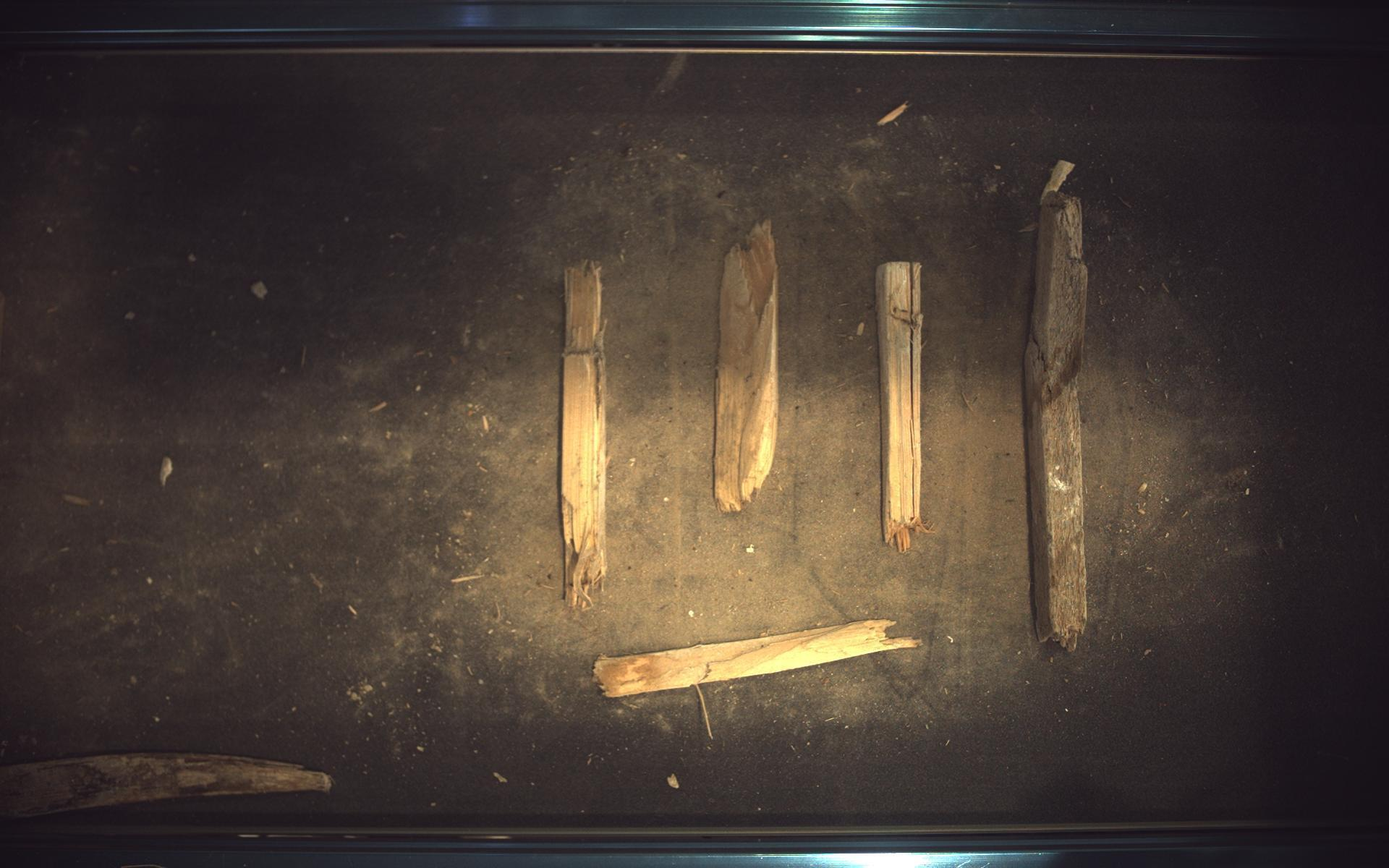wood: (1027, 159, 1090, 652), (595, 621, 922, 699), (715, 219, 780, 512), (561, 261, 607, 610), (878, 261, 929, 553)
